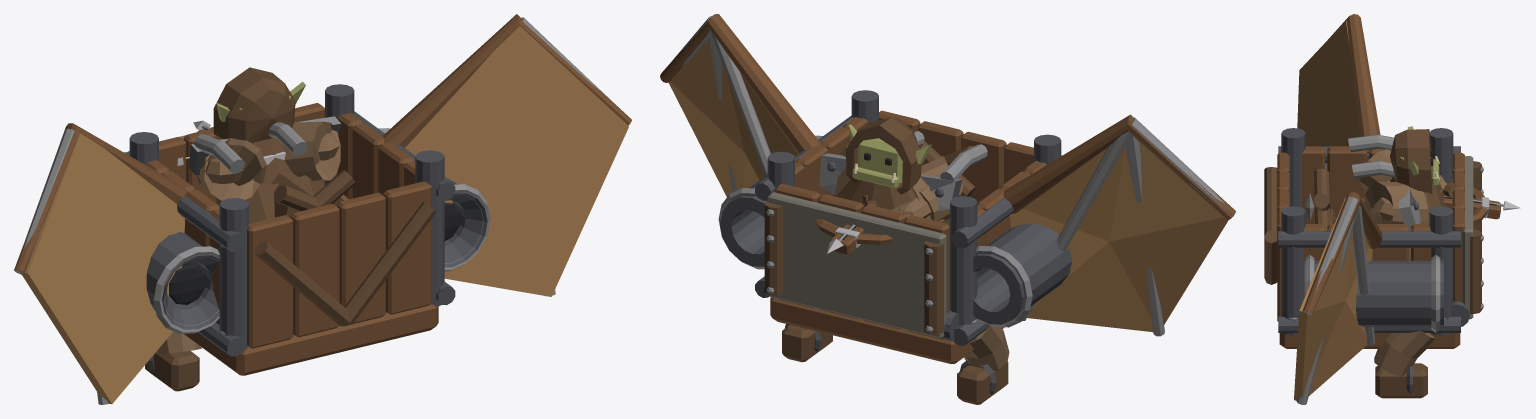
The model's file is host_28.glb.
3 renders of one model, left to right at view 1: azimuth 30°, elevation 25°; view 2: azimuth 150°, elevation 25°; view 3: azimuth 270°, elevation 25°, orthographic. The views are drawn at different scales.
Visible parts, largest first — view 1: V6 gyro source fitted triangular timber wing sail.001, V6 gyro source fitted triangular timber wing sail, V6 gyro source contacting lower timber chassis floor, V6 gyro source rear wall timber plank, V6 gyro source rear wall timber plank.001, V6 gyro source rear wall timber plank.002, V6 gyro source rear wall timber plank.003, V6 source fitted domed cloth hood, V6 gyro actual enclosing structural wing leading spar.001, V6 gyro actual cylindrical deeply bored side engine, V6 gyro real contacting vertical corner axle, V6 gyro actual enclosing structural wing leading spar (+29 smaller); view 2: V6 gyro source fitted triangular timber wing sail, V6 gyro actual fitted front riveted iron chassis plate, V6 gyro source fitted triangular timber wing sail.001, V6 gyro actual cylindrical deeply bored side engine, V6 gyro source contacting lower timber chassis floor, V6 gyro actual enclosing structural wing leading spar.001, V6 gyro actual enclosing structural wing leading spar, V6 gyro real contacting vertical corner axle.001, V6 gyro actual cylindrical deeply bored side engine.001, V6 source fitted domed cloth hood, V6 gyro source rear wall timber plank.001, V6 gyro actual contacting diagonal wing frame strut.002 (+32 smaller); view 3: V6 gyro source fitted triangular timber wing sail.001, V6 gyro source fitted triangular timber wing sail, V6 gyro actual cylindrical deeply bored side engine.001, V6 gyro real contacting vertical corner axle.002, V6 gyro actual enclosing structural wing leading spar, V6 source fitted domed cloth hood, V6 gyro fitted riveted chassis iron rail.003, V6 gyro source separate sidewall timber plank.001, V6 rider actual naturally hanging shin R, V6 gyro actual enclosing structural wing leading spar.001, V6 gyro real contacting vertical corner axle.003, Upper arm R (+36 smaller).
Part boxes in pixels (<box>): V6 gyro source fitted triangular timber wing sail.001: <box>405,25,628,296</box>; V6 gyro source fitted triangular timber wing sail: <box>20,133,184,404</box>; V6 gyro source contacting lower timber chassis floor: <box>184,304,438,375</box>; V6 gyro source rear wall timber plank: <box>247,215,293,348</box>; V6 gyro source rear wall timber plank.001: <box>290,204,339,337</box>; V6 gyro source rear wall timber plank.002: <box>337,192,385,325</box>; V6 gyro source rear wall timber plank.003: <box>383,181,431,314</box>; V6 source fitted domed cloth hood: <box>213,67,295,143</box>; V6 gyro actual enclosing structural wing leading spar.001: <box>382,14,631,147</box>; V6 gyro actual cylindrical deeply bored side engine: <box>146,232,219,329</box>; V6 gyro real contacting vertical corner axle: <box>219,198,248,354</box>; V6 gyro actual enclosing structural wing leading spar: <box>14,123,187,274</box>; V6 gyro source fitted triangular timber wing sail: <box>1009,142,1228,332</box>; V6 gyro actual fitted front riveted iron chassis plate: <box>768,192,946,338</box>; V6 gyro source fitted triangular timber wing sail.001: <box>668,38,797,196</box>; V6 gyro actual cylindrical deeply bored side engine: <box>973,223,1072,324</box>; V6 gyro source contacting lower timber chassis floor: <box>770,297,1004,363</box>; V6 gyro actual enclosing structural wing leading spar.001: <box>660,14,821,154</box>; V6 gyro actual enclosing structural wing leading spar: <box>1003,114,1235,219</box>; V6 gyro real contacting vertical corner axle.001: <box>950,196,977,342</box>; V6 gyro actual cylindrical deeply bored side engine.001: <box>720,174,767,266</box>; V6 source fitted domed cloth hood: <box>846,117,921,194</box>; V6 gyro source rear wall timber plank.001: <box>961,131,1006,203</box>; V6 gyro actual contacting diagonal wing frame strut.002: <box>1022,131,1129,320</box>; V6 gyro source fitted triangular timber wing sail.001: <box>1294,197,1372,400</box>; V6 gyro source fitted triangular timber wing sail: <box>1297,20,1359,146</box>; V6 gyro actual cylindrical deeply bored side engine.001: <box>1304,260,1443,326</box>; V6 gyro real contacting vertical corner axle.002: <box>1281,206,1305,335</box>; V6 gyro actual enclosing structural wing leading spar: <box>1328,14,1380,152</box>; V6 source fitted domed cloth hood: <box>1390,129,1432,193</box>; V6 gyro fitted riveted chassis iron rail.003: <box>1278,231,1460,247</box>; V6 gyro source separate sidewall timber plank.001: <box>1327,146,1366,218</box>; V6 rider actual naturally hanging shin R: <box>1374,331,1435,376</box>; V6 gyro actual enclosing structural wing leading spar.001: <box>1302,192,1382,315</box>; V6 gyro real contacting vertical corner axle.003: <box>1429,206,1453,335</box>; Upper arm R: <box>1364,182,1427,223</box>.
Bounding box in the file's own units: 2.13 × 1.02 × 0.9389.
